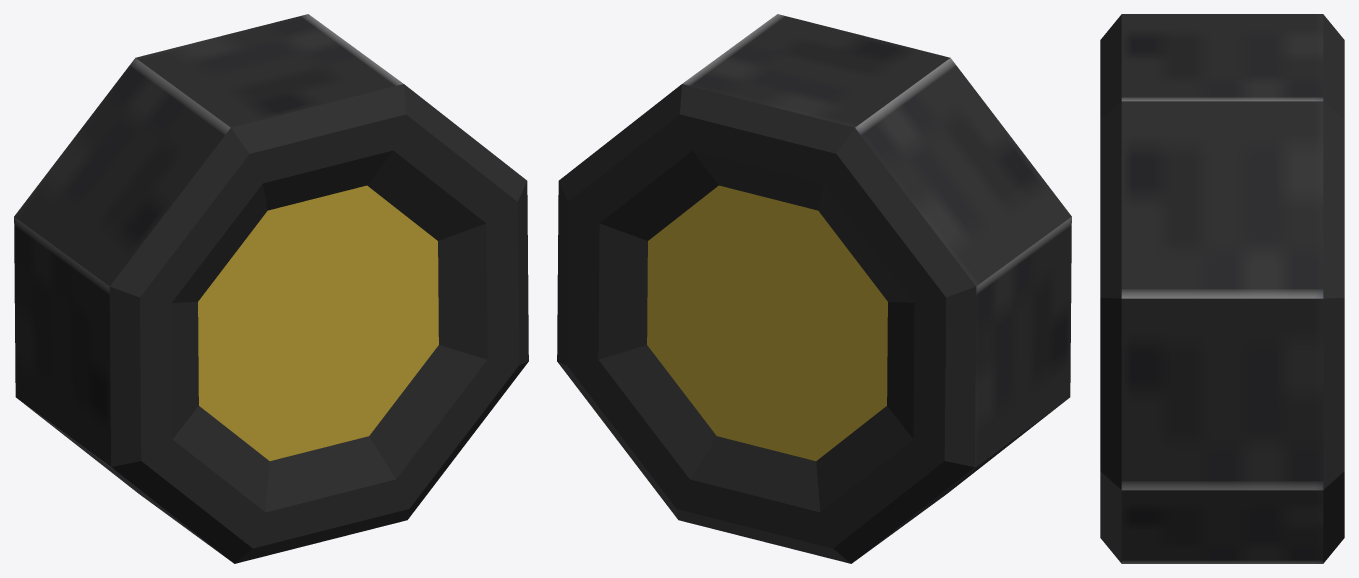
File: RodaTraseiraJorge.fbx
The picture shows the model from 3 angles, left to right: view 1: azimuth 30°, elevation 25°; view 2: azimuth 150°, elevation 25°; view 3: azimuth 270°, elevation 25°; orthographic projection. The views are drawn at different scales.
Parts seen in each view (by area): view 1: Cylinder.003; view 2: Cylinder.003; view 3: Cylinder.003.
Part boxes in pixels (x1,y1,x2,y2): Cylinder.003: (14,14,528,563); Cylinder.003: (557,14,1071,563); Cylinder.003: (1100,14,1344,563).
Bounding box in the file's own units: 83.45 × 83.45 × 40.
Materials: 1 (1 with a texture image).
